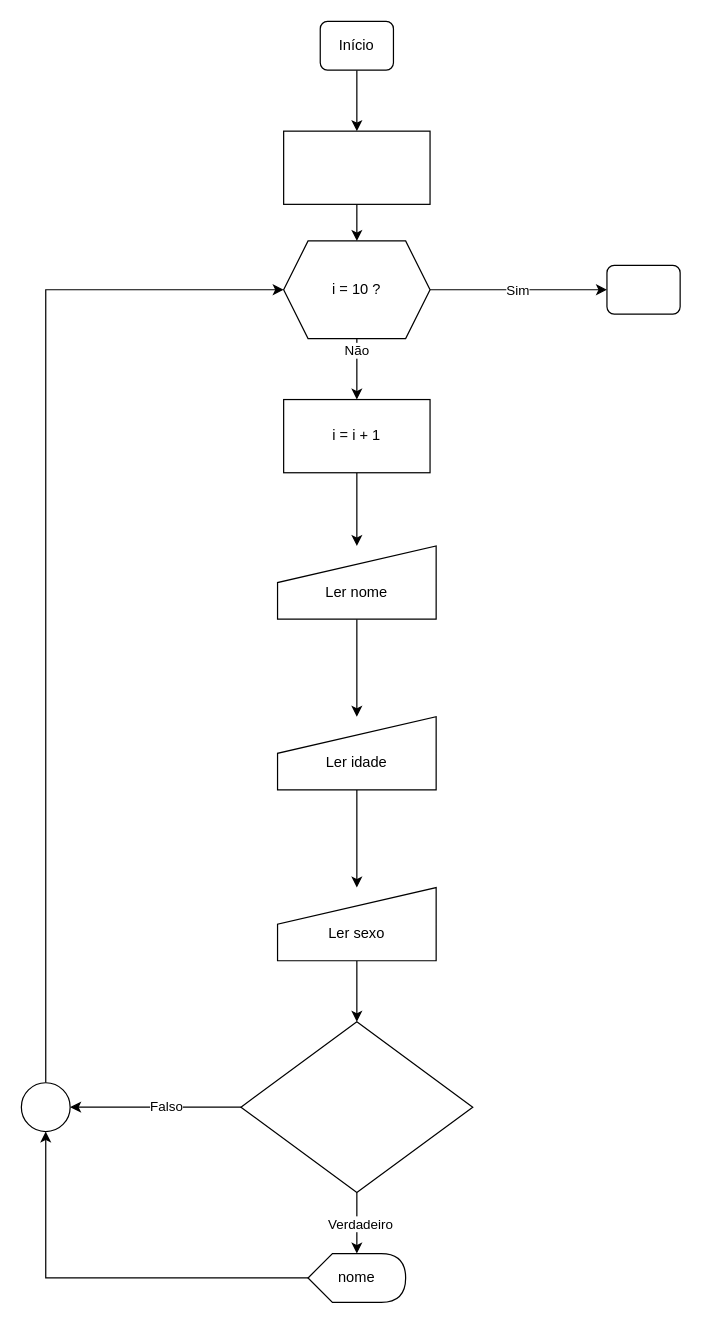
Image size: 702x1324. Some labels were removed from this diagram. Here are the shapes that lost their labels. From the top down, the centre of each, then its label:
the point at 356,167: i = 0
the point at 643,289: Fim
the point at 356,1107: sexo = masculino & idade > 21
